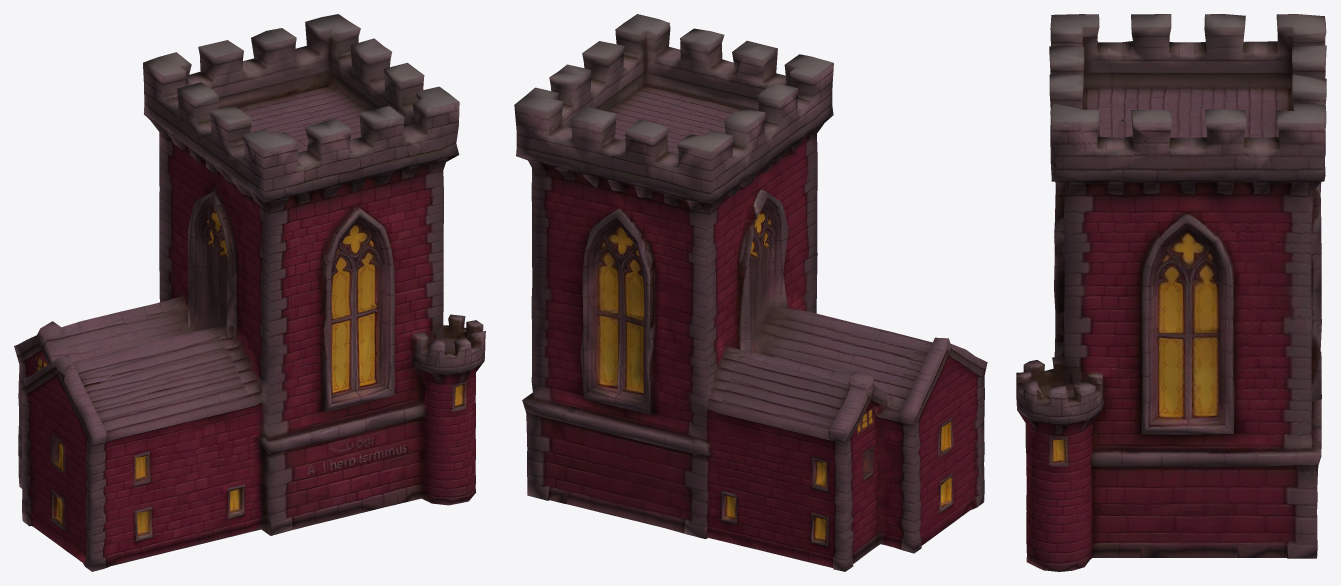
Rendered from terminus-amber-window-tower.glb.
The picture shows the model from 3 angles, left to right: view 1: azimuth 30°, elevation 25°; view 2: azimuth 150°, elevation 25°; view 3: azimuth 270°, elevation 25°; orthographic projection. The views are drawn at different scales.
Parts seen in each view (by area): view 1: tripo_node_bbbef67d-96c0-4473-a2ce-547fa8309d3c; view 2: tripo_node_bbbef67d-96c0-4473-a2ce-547fa8309d3c; view 3: tripo_node_bbbef67d-96c0-4473-a2ce-547fa8309d3c.
Part boxes in pixels (left/top/right/bottom): tripo_node_bbbef67d-96c0-4473-a2ce-547fa8309d3c: left=14, top=14, right=485, bottom=571; tripo_node_bbbef67d-96c0-4473-a2ce-547fa8309d3c: left=514, top=14, right=987, bottom=571; tripo_node_bbbef67d-96c0-4473-a2ce-547fa8309d3c: left=1016, top=14, right=1326, bottom=571.
Size of the model in its own units: 0.9792 by 0.9592 by 0.6117.
1 material, 1 textured.
